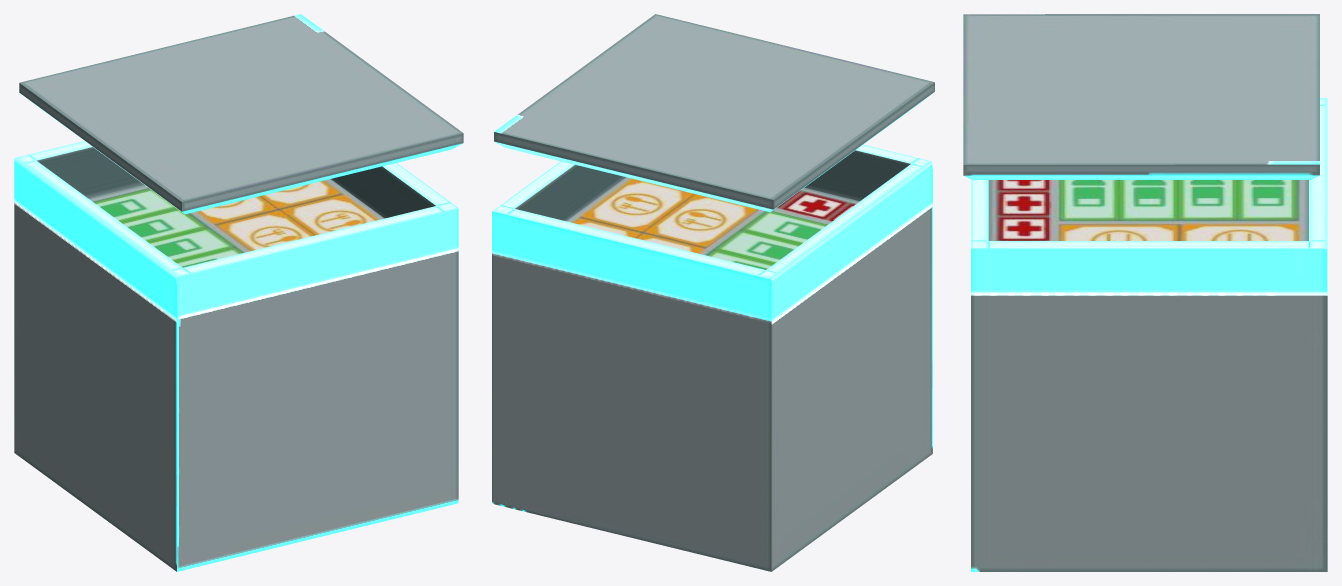
The model's file is Supplycrate.fbx.
3 renders of one model, left to right at view 1: azimuth 30°, elevation 25°; view 2: azimuth 150°, elevation 25°; view 3: azimuth 270°, elevation 25°, orthographic. The views are drawn at different scales.
Visible parts, largest first — view 1: Cube; view 2: Cube; view 3: Cube.
Part boxes in pixels (x1,y1,x2,y2): Cube: (14, 14, 463, 571); Cube: (492, 14, 934, 571); Cube: (963, 14, 1327, 571).
Size of the model in its own units: 201 by 252 by 204.
Materials: 1 (1 with a texture image).
